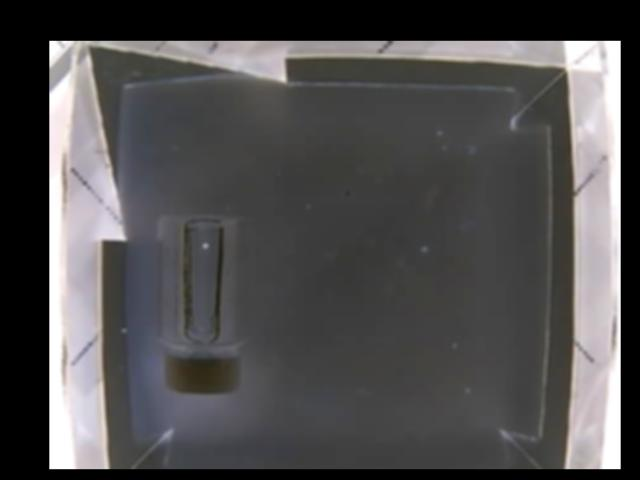Bottle: (151, 211, 247, 396)
